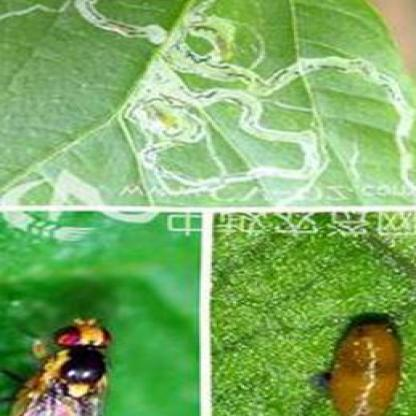whorl-maggot: (320, 311, 409, 416)
